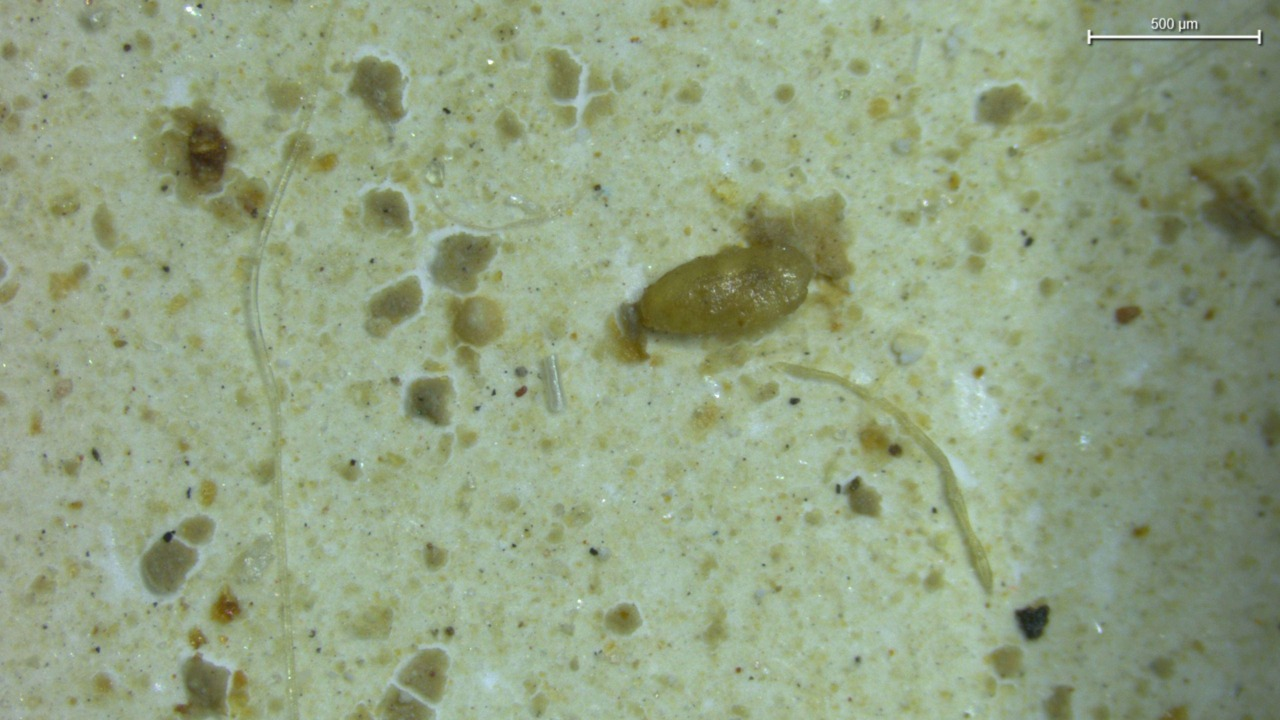microplastic_fragment: (638, 246, 814, 335), (541, 354, 565, 412)
